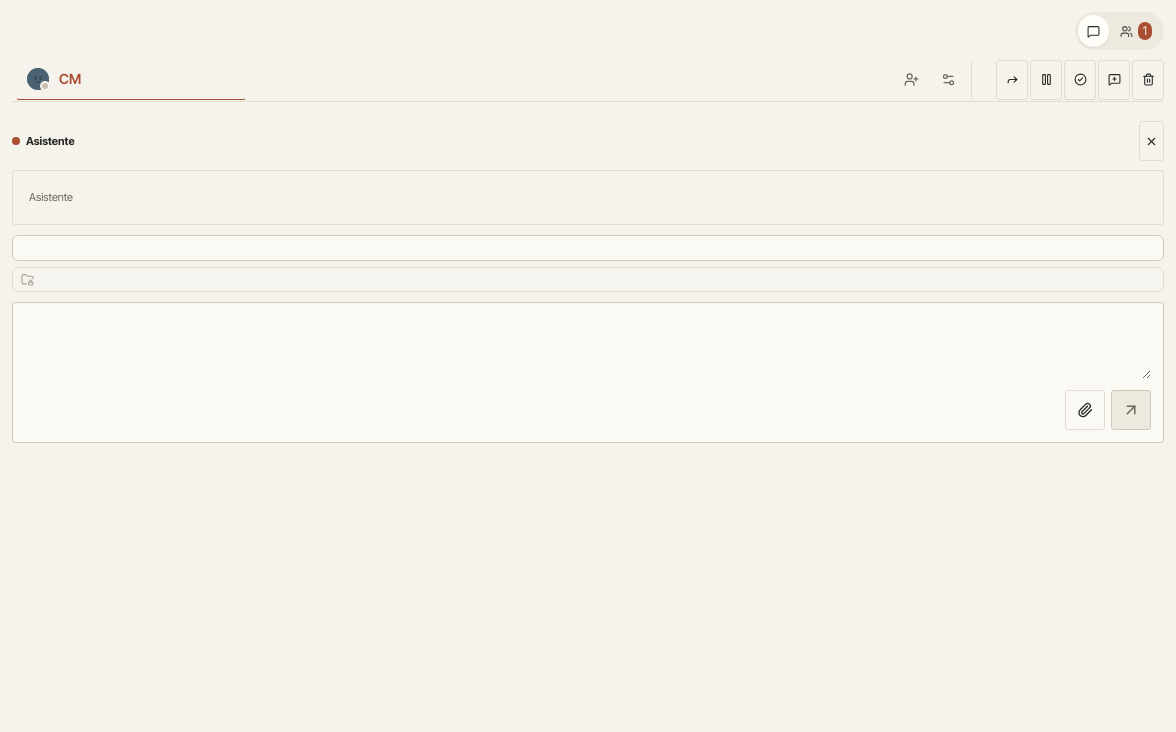
Test: las tarjetas del equipo salen donde ahora vive la conversacion › la aprobacion que le toca al coordinador se dibuja en el modo Equipo
Click the button with class "team-rail-team": (1136, 31) [1111, 15, 1161, 47]
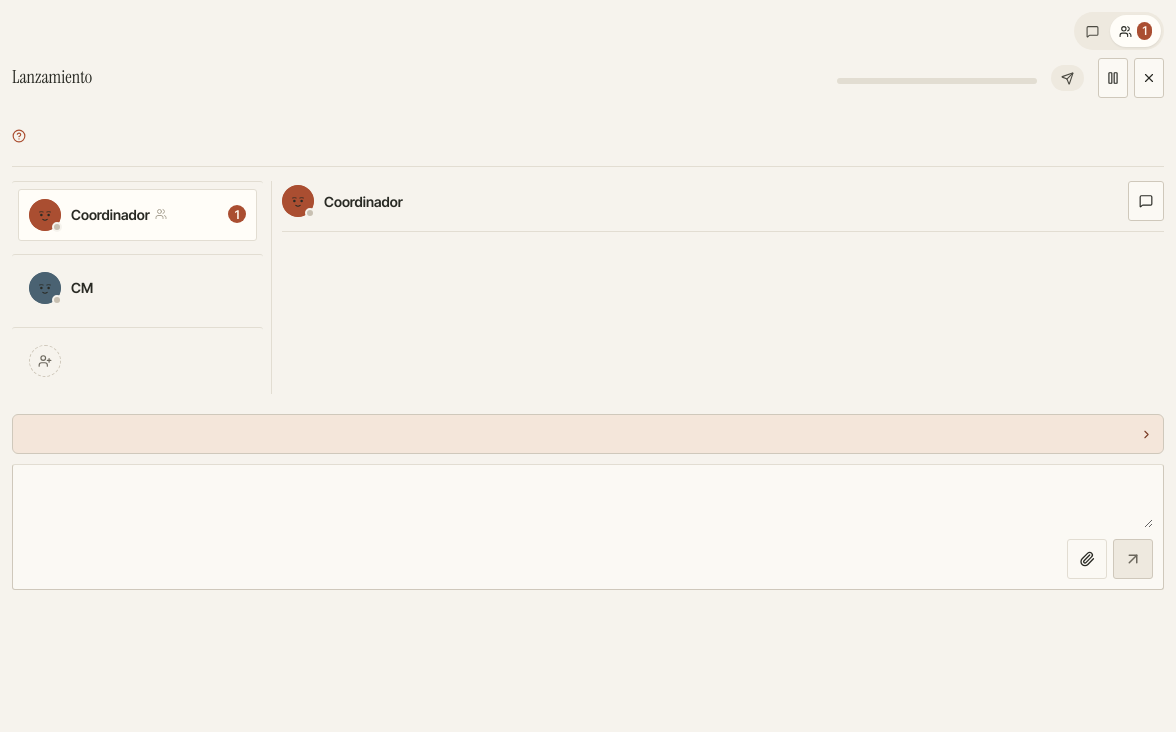
Result: the button with class "team-cards-collapsed" is shown at [12, 414, 1164, 454]
